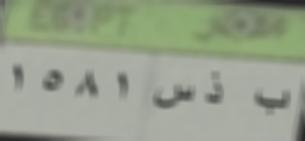1: (113, 70, 132, 103), (12, 58, 26, 93)
5: (41, 62, 63, 101)
8: (70, 68, 100, 104)
baa: (252, 83, 292, 118)
seen: (152, 83, 197, 115)
zaal: (201, 66, 226, 111)
